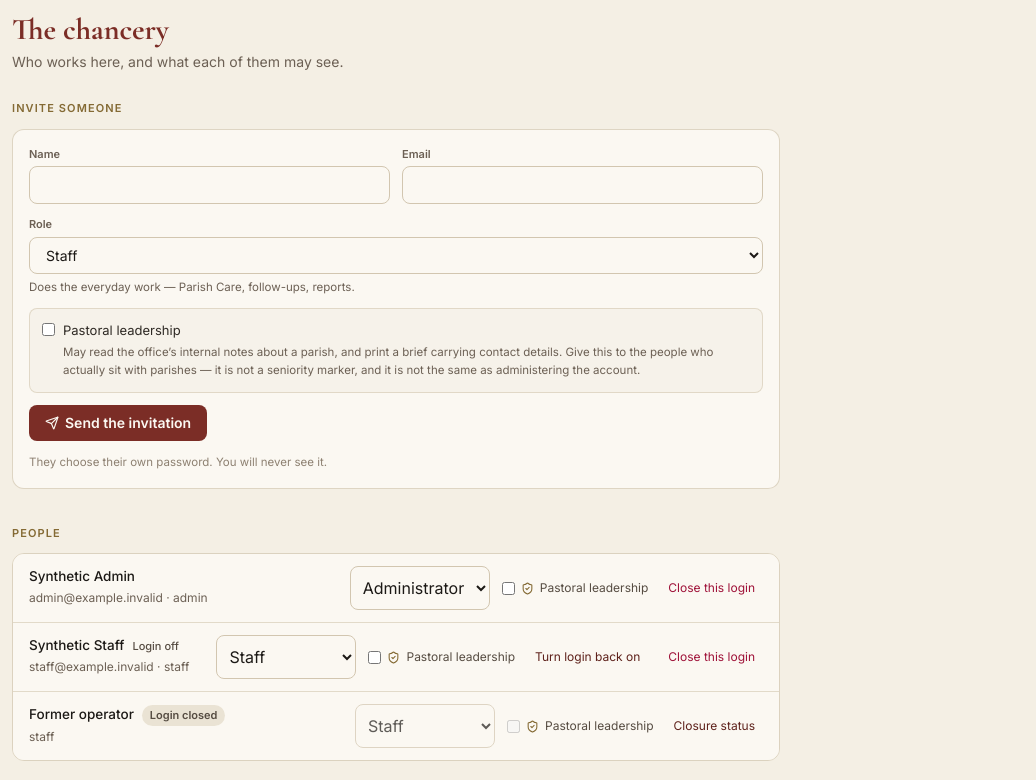
Test: chancery closure controls › en: thrown closure and receipt reads surface unknown outcomes
Click the button "Close this login" in the row of "Synthetic Staff".
click(712, 657)  # box [660,635,763,679]
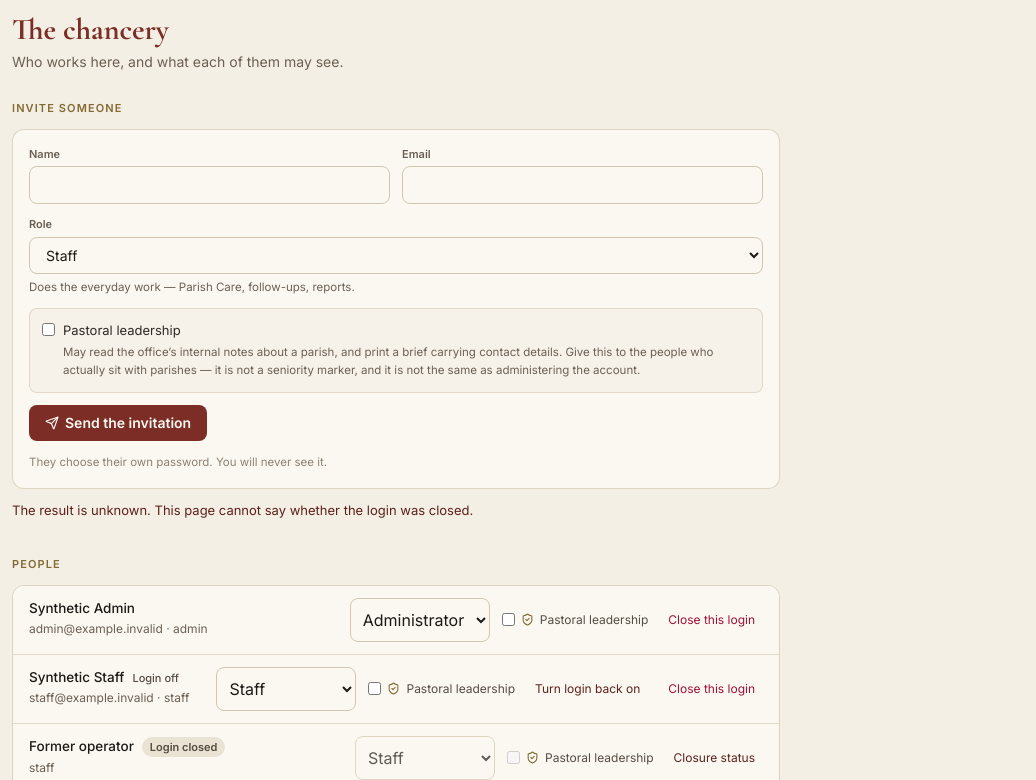
expect the message reads "The result is unknown. This page cannot say whether the login was closed.": met, box [12,502,473,518]
Click the button "Closure status".
click(714, 758)  # box [666,736,763,779]
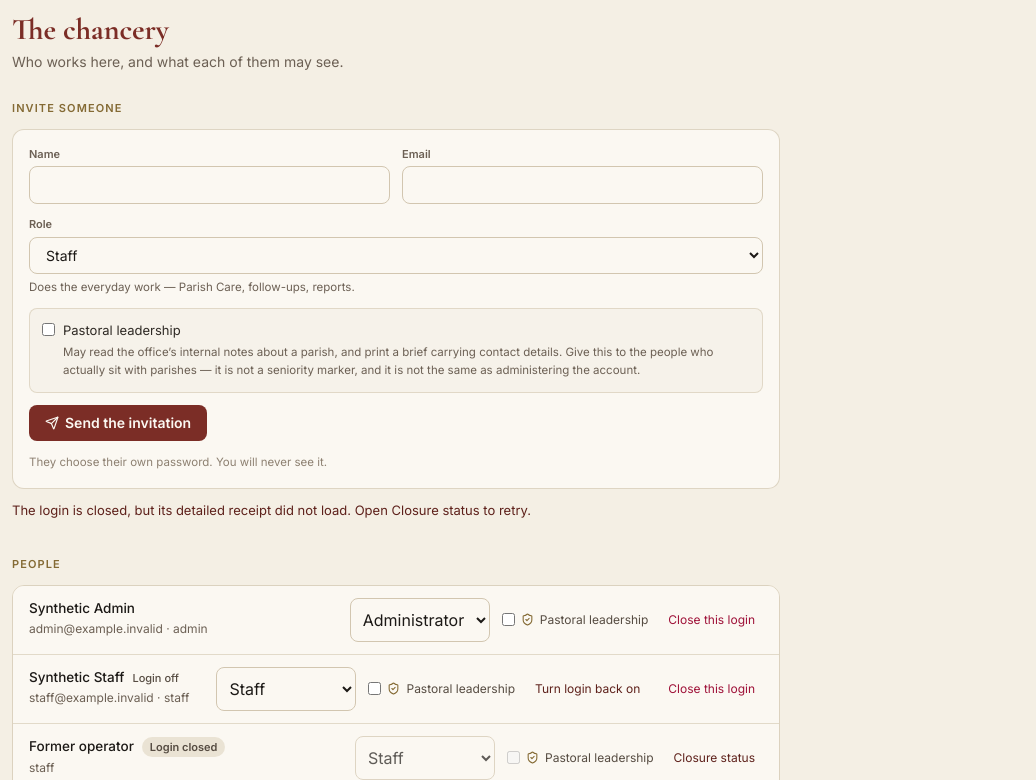
expect the message shows "The login is closed, but its detailed receipt did not load. Open Closure status to retry.": met, box [12,502,531,518]
